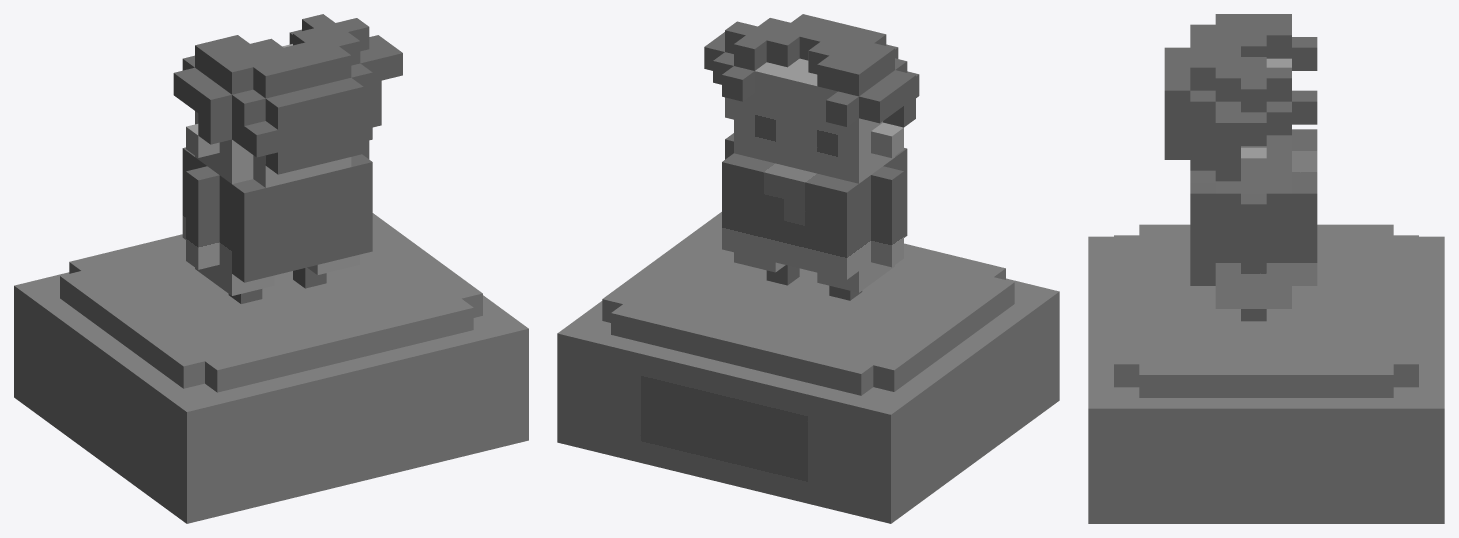
The model's file is obj_statue1.fbx.
The picture shows the model from 3 angles, left to right: view 1: azimuth 30°, elevation 25°; view 2: azimuth 150°, elevation 25°; view 3: azimuth 270°, elevation 25°; orthographic projection. The views are drawn at different scales.
Parts seen in each view (by area): view 1: obj_statue1; view 2: obj_statue1; view 3: obj_statue1.
Boxes of the visible parts, left/top/right/bottom form: obj_statue1: left=14, top=14, right=528, bottom=523; obj_statue1: left=557, top=14, right=1059, bottom=523; obj_statue1: left=1088, top=14, right=1444, bottom=523.
Size of the model in its own units: 1.6 by 1.4 by 1.7.
1 material, 1 textured.
